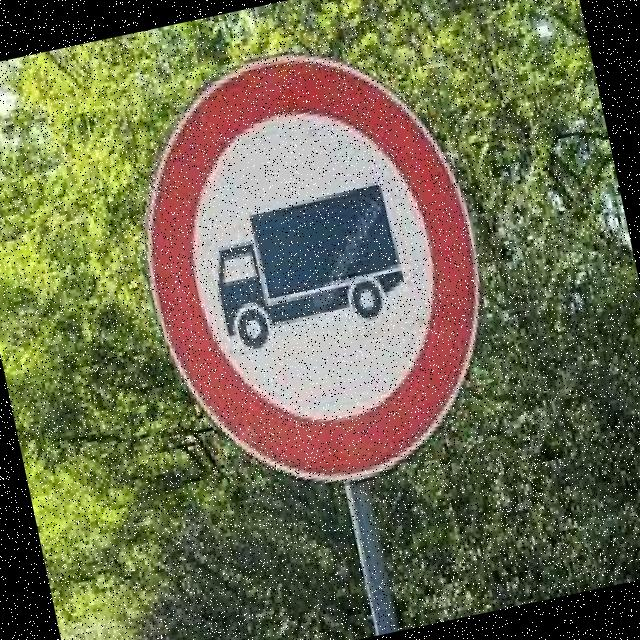do_not_enter: (106, 8, 530, 521)
